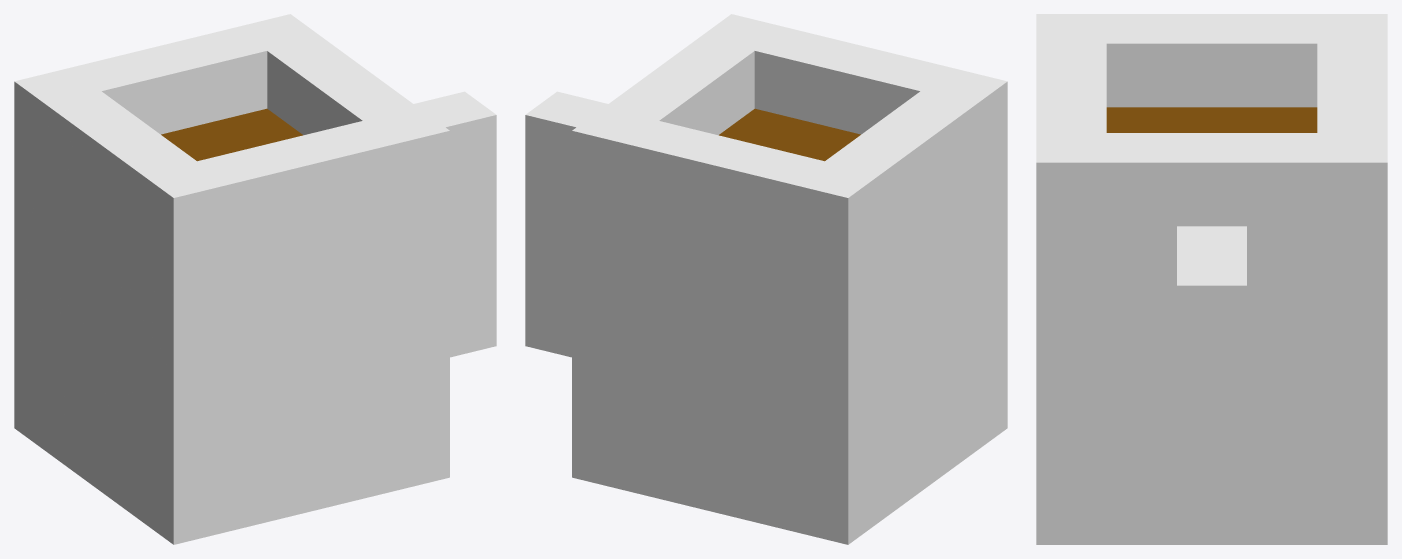
Rendered from Cup.fbx.
3 renders of one model, left to right at view 1: azimuth 30°, elevation 25°; view 2: azimuth 150°, elevation 25°; view 3: azimuth 270°, elevation 25°, orthographic. The views are drawn at different scales.
Visible parts, largest first — view 1: Cup; view 2: Cup; view 3: Cup.
Boxes of the visible parts, x1,y1,x2,y2 form: Cup: (14,14,496,544); Cup: (525,14,1007,544); Cup: (1036,14,1387,544).
Bounding box in the file's own units: 70 × 60 × 50.
